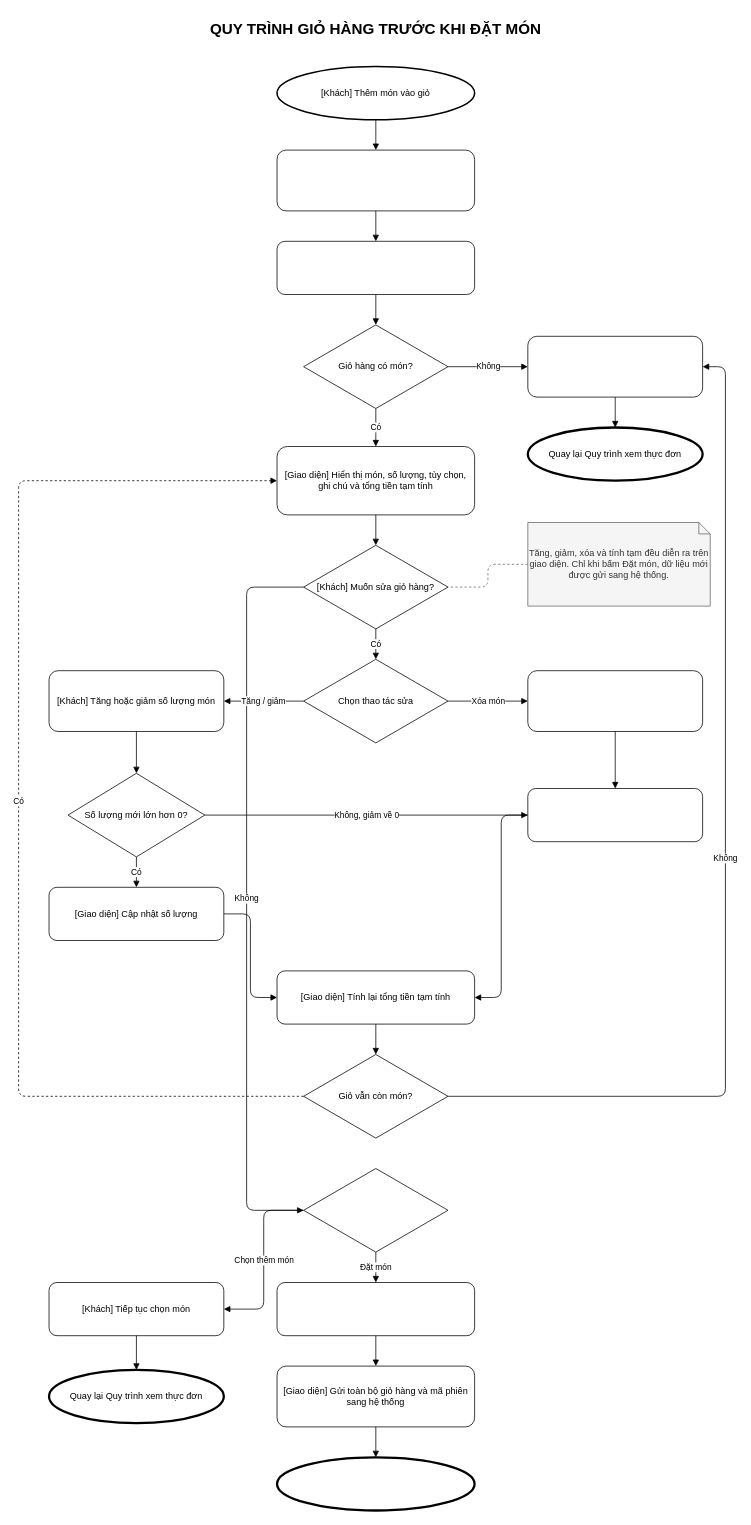
Image size: 751x1525. Some labels were removed from this diagram. The centre of each missing label's shape, as x and y in pixels:
[Giao diện] Hiển thị giỏ hàng trống: the point at 615,366
[Giao diện] Lưu giỏ tạm trên thiết bị; chưa gửi yêu cầu đặt món: the point at 375,180
[Giao diện] Xóa món khỏi giỏ tạm: the point at 615,815
[Khách] Bấm Đặt món: the point at 375,1309
[Khách] Chọn bước tiếp theo: the point at 375,1210
[Khách] Mở giỏ hàng: the point at 375,267
[Khách] Xóa món khỏi giỏ: the point at 615,701
Chuyển sang Quy trình gọi món tại bàn: the point at 375,1483
